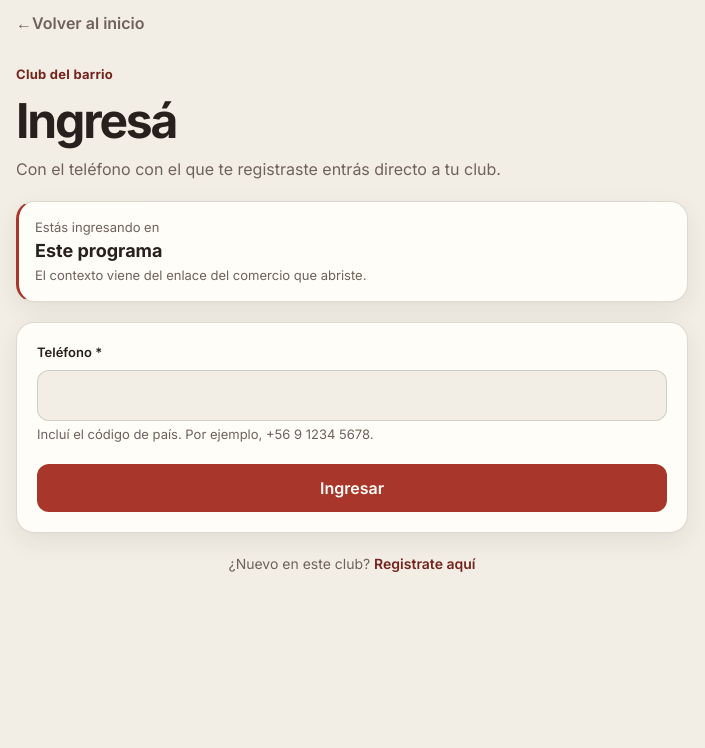
Test: login page behavior › reports a 401 as an unregistered phone with a working register link
Type "+56912345678" into the field labelled "Teléfono *". click: (352, 396)
box: [37,370,667,421]
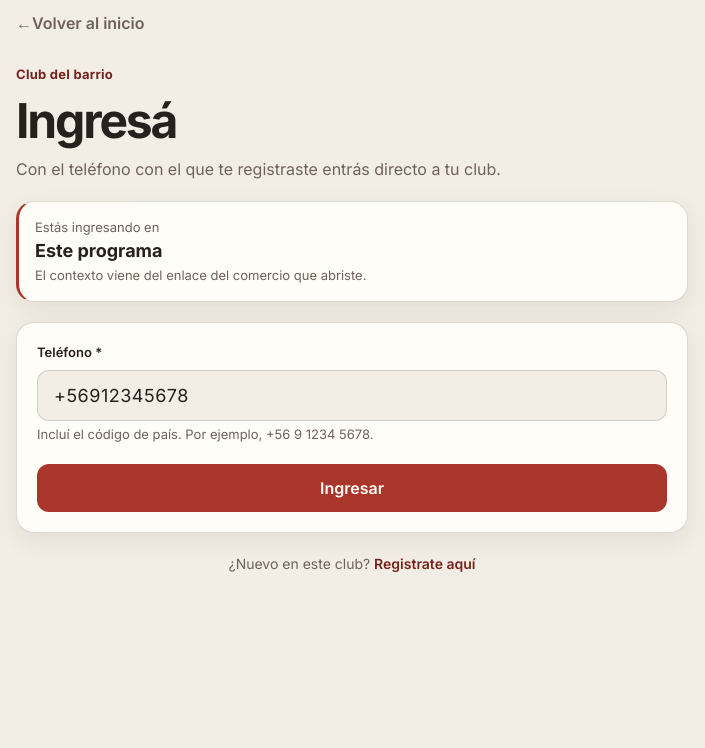
Click the button "Ingresar". click: (352, 488)
box: [37,464,667,512]
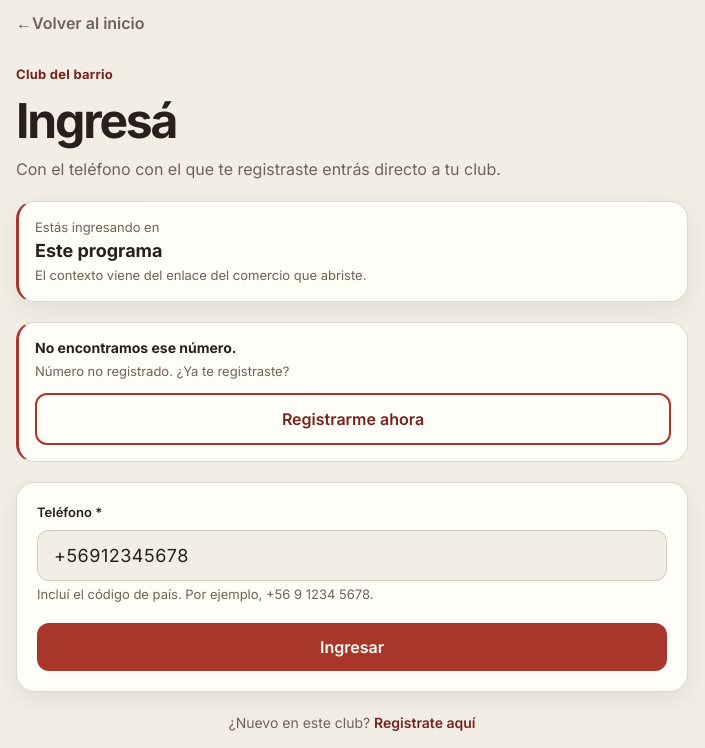
Check: the text "Número no registrado. ¿Ya te registraste?" is shown, box [35,363,289,379]
